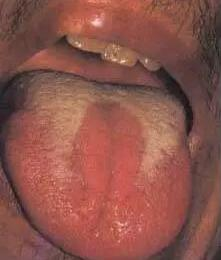botaishe: (72, 98, 145, 204)
huangtaishe: (3, 71, 191, 260)
